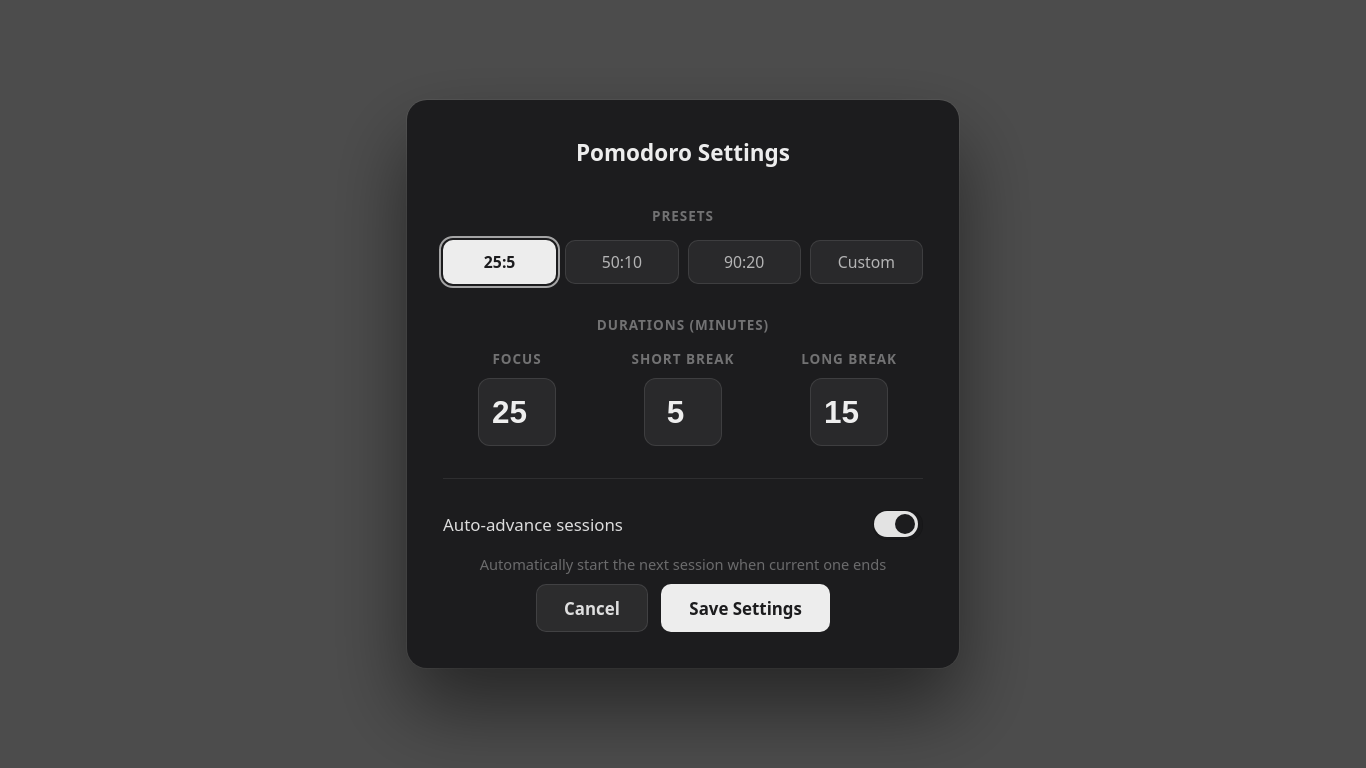
Scenario: PomodoroSettings › updates durations when preset is selected
What coordinates should you click on to do the following:
click the button "90:20"
I would click on:
 (744, 262)
Its box is [688, 240, 801, 284].
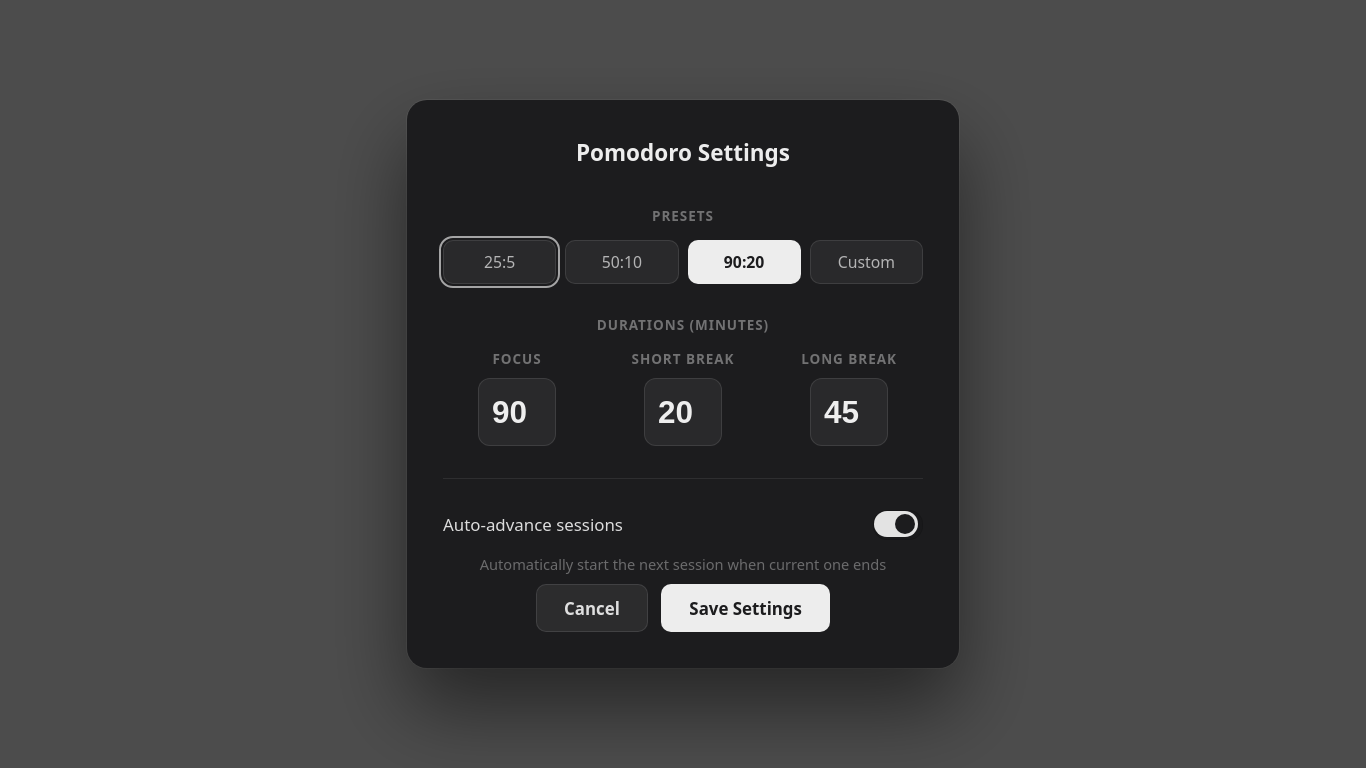
Now the number field showing "90" is shown, box [478, 378, 556, 446]
Now the number field showing "20" is shown, box [644, 378, 722, 446]
Now the number field showing "45" is shown, box [810, 378, 888, 446]
